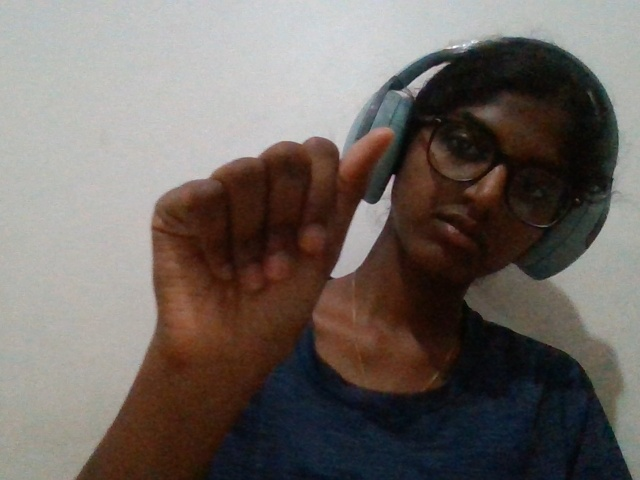A: (100, 112, 404, 441)
